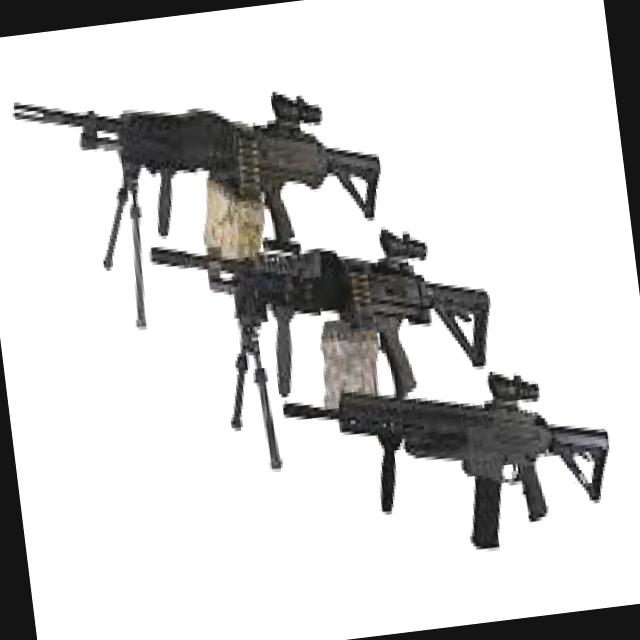long weapon: (145, 228, 524, 419), (7, 77, 396, 229), (277, 380, 640, 536)
